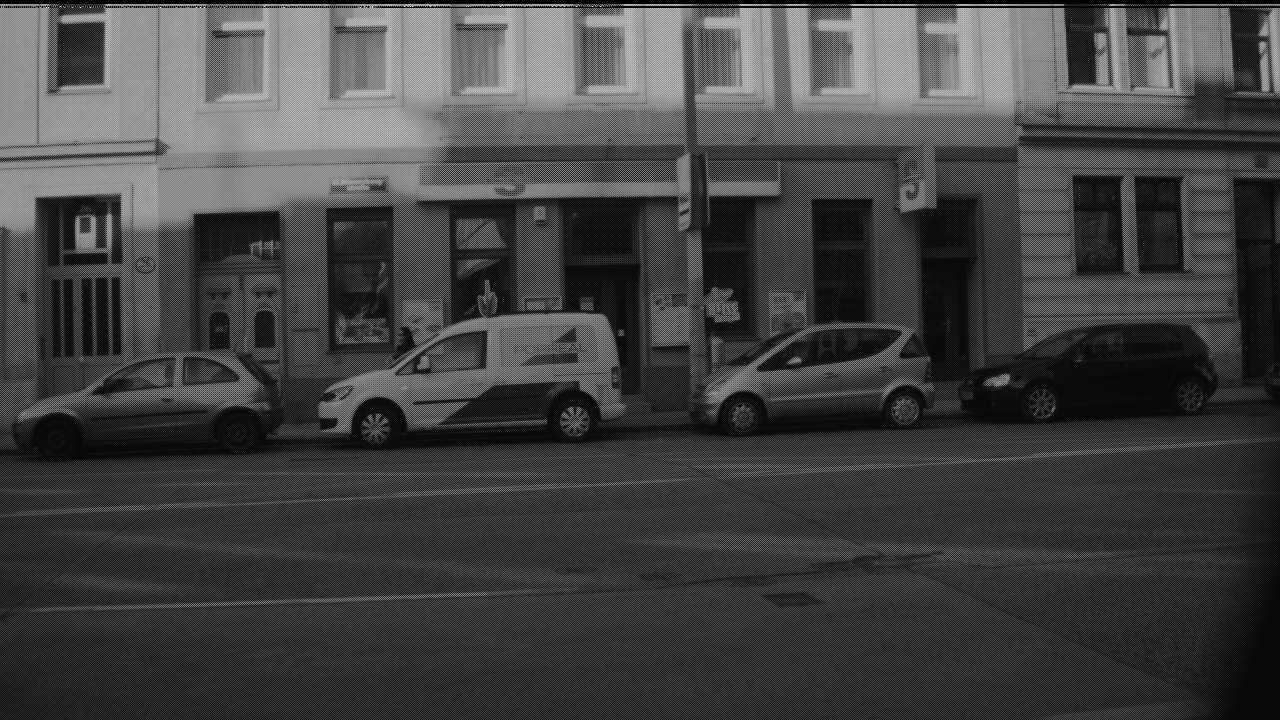pole: (680, 1, 710, 366)
